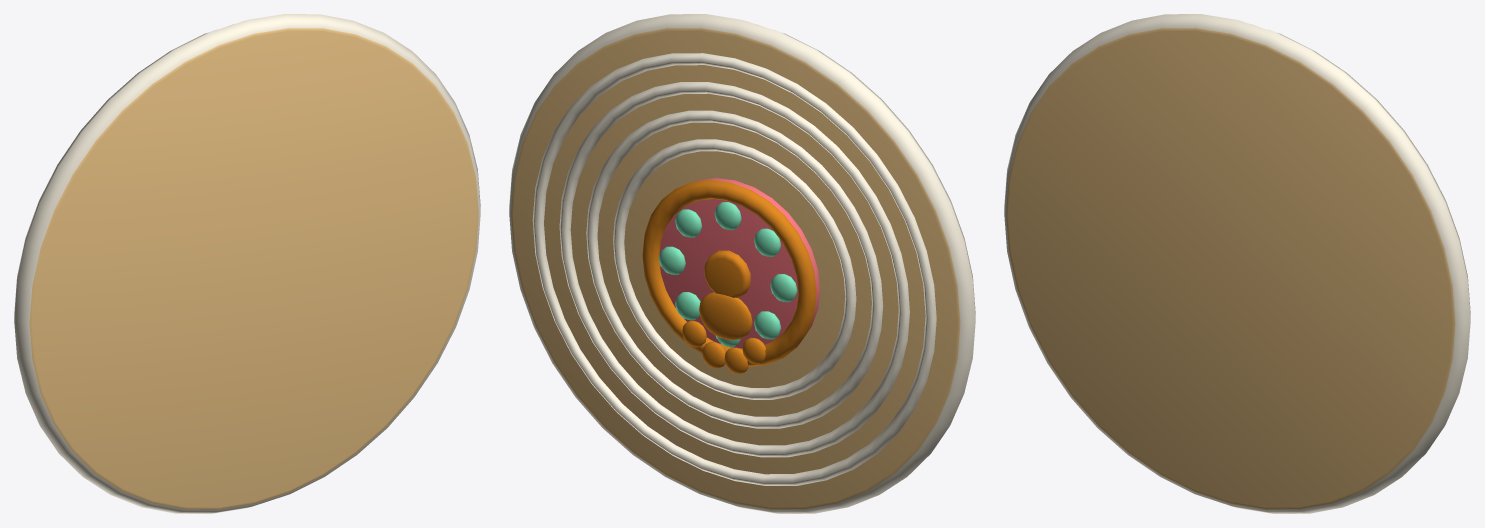
File: LoftRecordPlayerDisc_Premium.fbx
The picture shows the model from 3 angles, left to right: view 1: azimuth 30°, elevation 25°; view 2: azimuth 150°, elevation 25°; view 3: azimuth 330°, elevation 25°; orthographic projection.
Visible parts, largest first — view 1: LoftRecordPlayerDisc; view 2: LoftRecordPlayerDisc; view 3: LoftRecordPlayerDisc.
Boxes of the visible parts, x1,y1,x2,y2 form: LoftRecordPlayerDisc: (14, 14, 480, 513); LoftRecordPlayerDisc: (509, 14, 975, 513); LoftRecordPlayerDisc: (1004, 14, 1470, 513).
Bounding box in the file's own units: 0.418 × 0.418 × 0.043.
